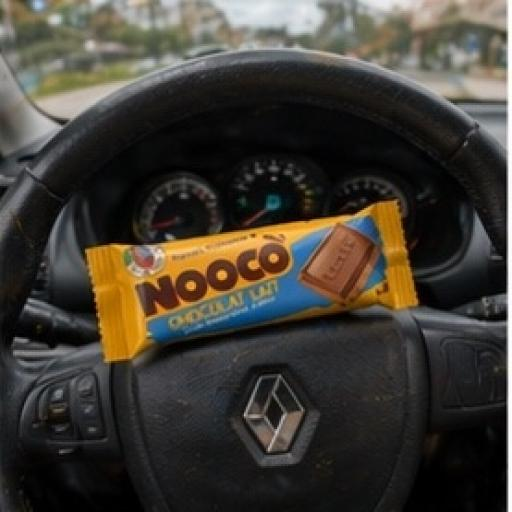biscuit-detection: (77, 194, 447, 387)
